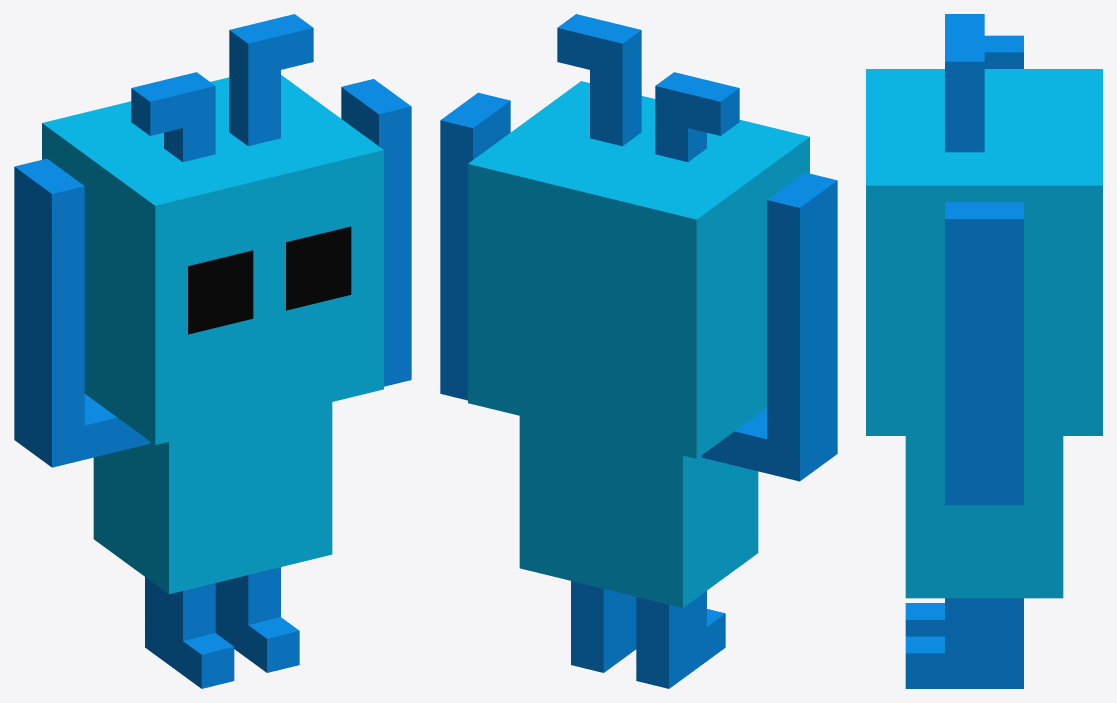
Rendered from alien_still_hold-01.obj.
The picture shows the model from 3 angles, left to right: view 1: azimuth 30°, elevation 25°; view 2: azimuth 150°, elevation 25°; view 3: azimuth 270°, elevation 25°; orthographic projection. The views are drawn at different scales.
Bounding box in the file's own units: 11 × 18 × 6.
1 material, 1 textured.
